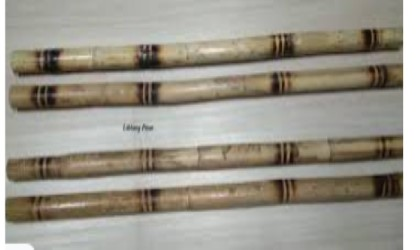baston_e: (23, 13, 393, 77), (10, 171, 397, 229), (16, 58, 400, 113), (14, 133, 397, 186)
baston_v: (4, 42, 34, 75), (1, 151, 29, 185), (1, 194, 24, 231), (3, 81, 28, 112)
